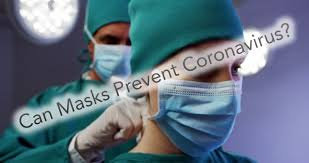masked: (132, 5, 247, 153), (83, 1, 145, 85)
